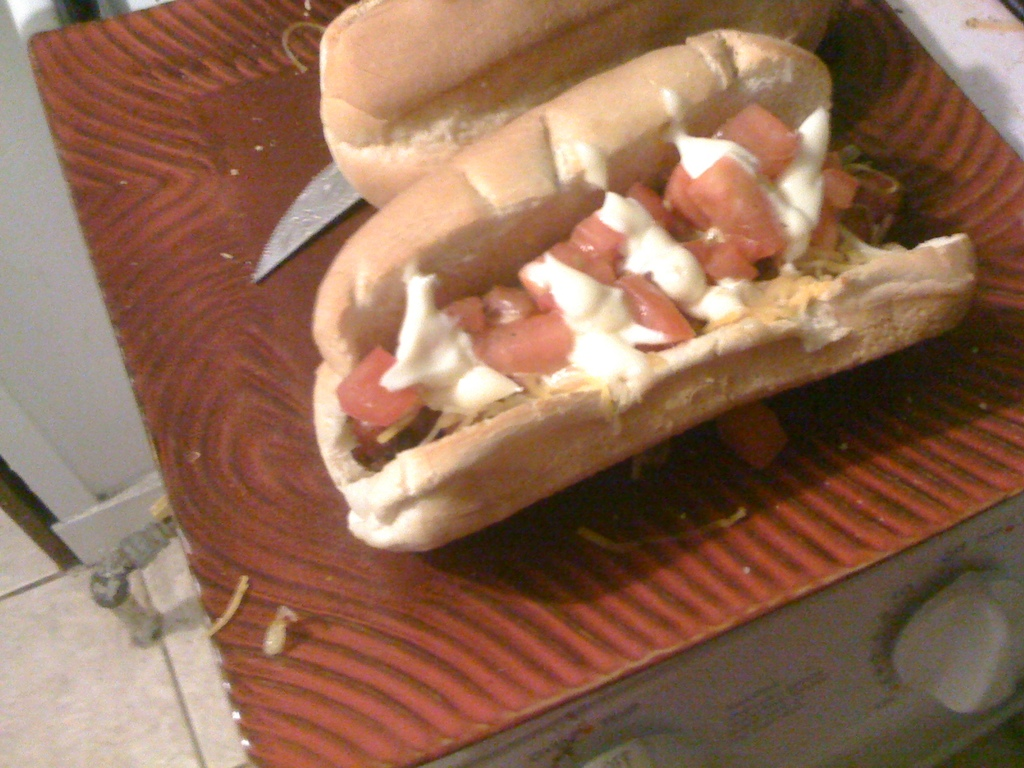hot_dog: (306, 19, 989, 559)
